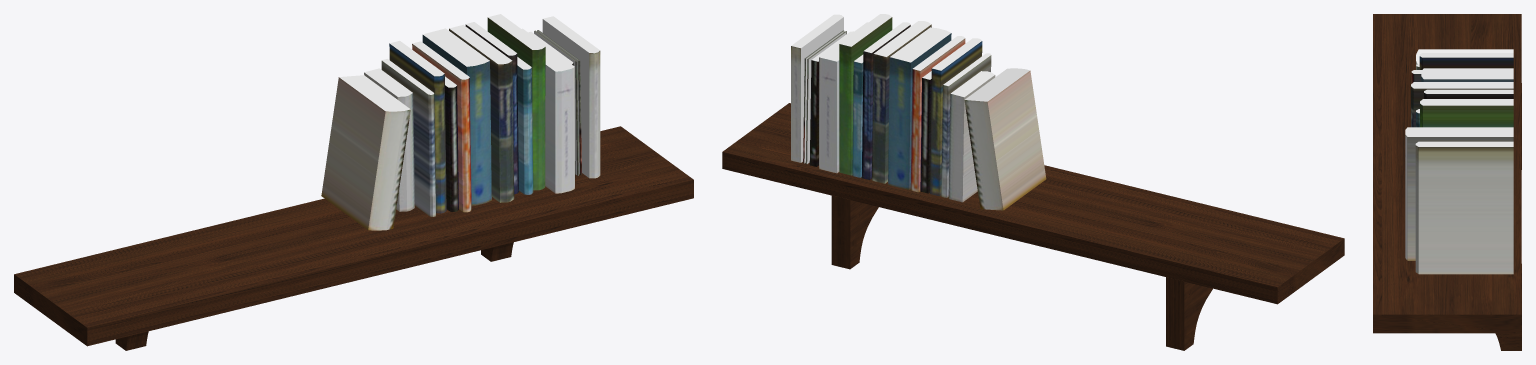
The model's file is Shelf 1.FBX.
3 views of the same model, side by side, from view 1: azimuth 30°, elevation 25°; view 2: azimuth 150°, elevation 25°; view 3: azimuth 270°, elevation 25° (orthographic). The views are drawn at different scales.
Visible parts, largest first — view 1: shelf 1, books; view 2: shelf 1, books; view 3: shelf 1, books.
Boxes of the visible parts, x1,y1,x2,y2 form: shelf 1: [14, 126, 693, 350]; books: [321, 14, 600, 230]; shelf 1: [722, 103, 1344, 350]; books: [791, 14, 1046, 210]; shelf 1: [1373, 14, 1521, 350]; books: [1405, 49, 1513, 274].
Size of the model in its own units: 1.27 by 0.4783 by 0.265.
